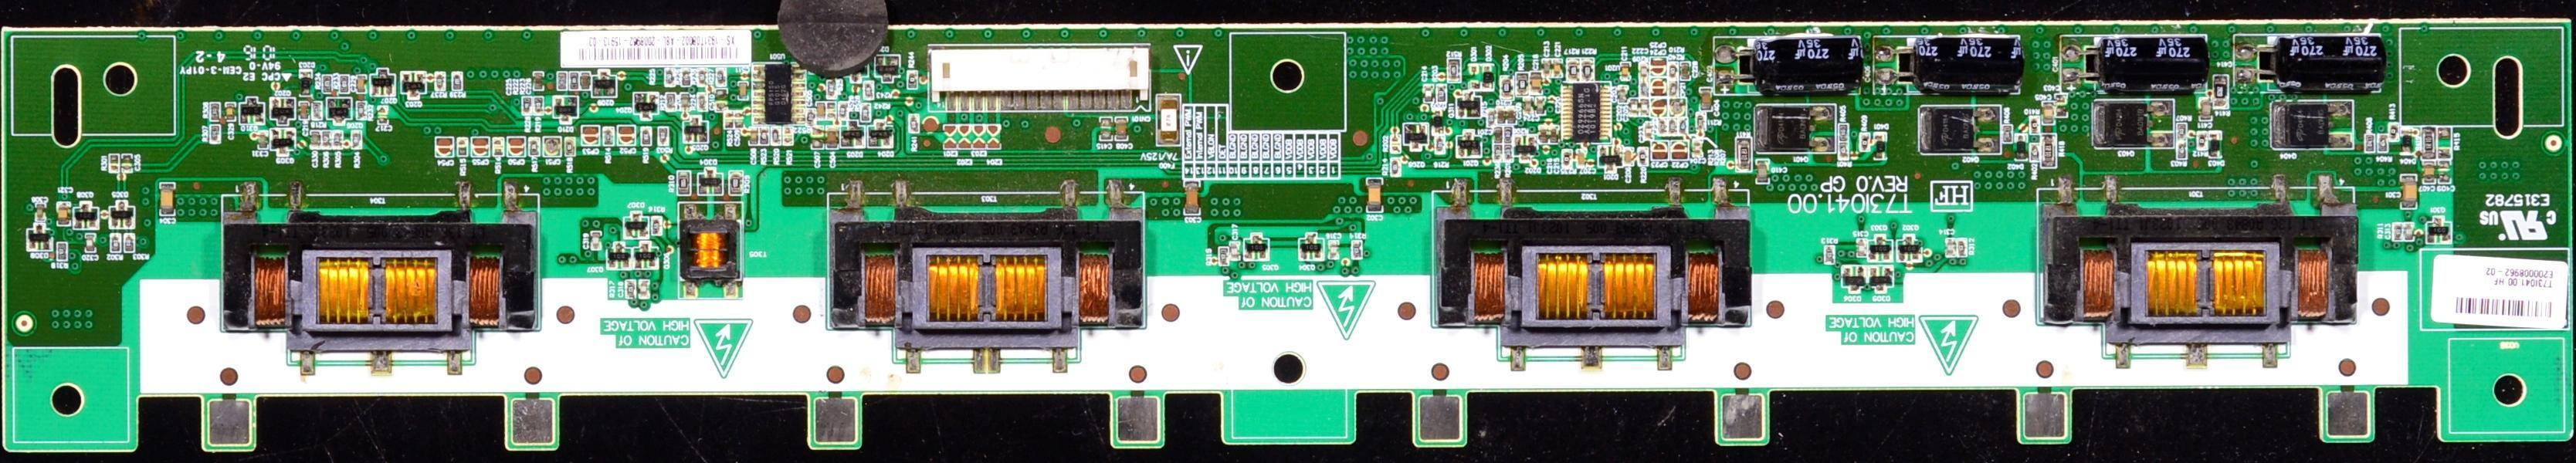Capacitor: (1183, 181, 1204, 222), (158, 178, 177, 220), (1366, 177, 1386, 214), (2399, 172, 2418, 208), (544, 133, 563, 167), (583, 122, 602, 157), (436, 134, 456, 167), (472, 134, 492, 164), (507, 135, 528, 164), (619, 122, 636, 154), (377, 105, 394, 133), (1097, 115, 1114, 144), (588, 229, 604, 255), (1669, 139, 1690, 161), (2422, 160, 2435, 191), (2040, 103, 2057, 127), (1754, 161, 1771, 184), (1421, 81, 1434, 109), (1700, 84, 1713, 111), (2200, 90, 2213, 119), (1116, 115, 1129, 144), (2440, 158, 2452, 185), (1855, 235, 1869, 262), (56, 201, 71, 227), (530, 69, 546, 91), (1651, 140, 1668, 161), (1530, 69, 1542, 96), (2057, 91, 2068, 120), (1651, 97, 1668, 117), (825, 126, 838, 150), (1619, 61, 1635, 82), (310, 129, 321, 150), (84, 232, 97, 255), (1945, 236, 1957, 260), (1327, 239, 1341, 263), (1649, 56, 1666, 74), (225, 99, 236, 123), (1624, 145, 1634, 170), (1575, 147, 1587, 172), (1229, 240, 1241, 264), (1616, 83, 1629, 104), (1639, 120, 1653, 140), (813, 124, 822, 152), (1649, 76, 1666, 94), (1549, 121, 1561, 145), (734, 107, 744, 133), (34, 203, 47, 224), (815, 100, 826, 121), (1537, 123, 1549, 144), (747, 124, 758, 147), (257, 129, 268, 153), (1533, 97, 1545, 116), (580, 70, 591, 91), (1628, 97, 1639, 117), (1693, 138, 1704, 161), (2405, 222, 2415, 244), (640, 277, 650, 301), (1680, 59, 1691, 81), (1521, 98, 1532, 117), (1638, 61, 1649, 79), (300, 100, 310, 123), (1543, 56, 1551, 78), (1554, 57, 1563, 79), (358, 74, 366, 93), (1641, 97, 1649, 117), (1496, 105, 1505, 123), (1493, 127, 1501, 143), (1508, 103, 1515, 120)
Connector: (926, 39, 1151, 110)
IC: (751, 49, 808, 123), (1558, 83, 1613, 142)
Resistor: (1734, 130, 1754, 173), (2042, 133, 2058, 167), (676, 167, 694, 196), (1444, 56, 1463, 84), (1348, 234, 1366, 265), (1432, 122, 1448, 156), (2212, 76, 2230, 107), (2194, 128, 2209, 157), (658, 123, 673, 152), (1822, 241, 1838, 267), (2438, 127, 2453, 154), (727, 169, 743, 197), (641, 123, 654, 154), (1434, 81, 1447, 110), (1582, 55, 1595, 82), (1858, 130, 1872, 157), (1957, 237, 1971, 263), (1565, 57, 1579, 83), (1516, 70, 1527, 100), (2028, 112, 2042, 135), (109, 232, 123, 255), (1217, 245, 1230, 269), (530, 135, 541, 162), (823, 79, 837, 100), (207, 123, 222, 145), (1561, 147, 1575, 169), (715, 68, 728, 90), (434, 70, 447, 93), (1501, 73, 1513, 99), (663, 91, 677, 113), (207, 100, 220, 123), (2001, 123, 2014, 147), (1837, 140, 1850, 164), (651, 213, 664, 236), (625, 278, 638, 303), (552, 70, 567, 91), (907, 66, 918, 91), (565, 134, 577, 159), (451, 69, 464, 91), (321, 73, 334, 93), (1696, 115, 1709, 137), (1836, 120, 1850, 141), (2387, 120, 2400, 141), (107, 153, 120, 174), (123, 153, 136, 174), (534, 95, 545, 118), (908, 113, 920, 136), (2364, 132, 2375, 154), (1639, 147, 1649, 171), (125, 231, 136, 254), (604, 123, 614, 150), (56, 242, 69, 263), (663, 68, 674, 88), (521, 96, 532, 117), (351, 130, 364, 151), (680, 91, 690, 114), (784, 123, 794, 148), (458, 136, 468, 161), (495, 137, 505, 163), (2176, 140, 2187, 164), (1655, 119, 1667, 136), (338, 74, 351, 94), (1668, 79, 1679, 98), (761, 123, 770, 147), (323, 129, 332, 150), (2030, 141, 2040, 164), (2392, 221, 2403, 242), (1638, 80, 1651, 96), (569, 69, 578, 91), (697, 90, 707, 111), (2177, 118, 2187, 139), (1669, 59, 1679, 80), (866, 80, 875, 100), (860, 103, 871, 123), (1485, 109, 1496, 127), (697, 66, 707, 86), (772, 123, 781, 147), (334, 127, 343, 151), (838, 100, 848, 119), (1679, 119, 1689, 136), (724, 109, 733, 129), (1503, 127, 1513, 144), (2380, 134, 2389, 154), (1493, 144, 1501, 162), (1669, 118, 1678, 136), (1503, 144, 1512, 161)
Transistor: (399, 69, 429, 110), (369, 65, 398, 103), (1839, 265, 1869, 300), (684, 115, 712, 154), (107, 198, 137, 231), (271, 127, 300, 164), (554, 96, 581, 133), (1242, 229, 1271, 263), (240, 93, 267, 127), (25, 225, 54, 259), (326, 96, 354, 127), (1402, 122, 1430, 154), (1295, 231, 1323, 265), (873, 52, 902, 86), (592, 68, 618, 103), (1598, 145, 1622, 180), (1454, 90, 1483, 120), (269, 96, 298, 127), (622, 208, 649, 239), (869, 117, 893, 150), (1458, 127, 1483, 162), (631, 90, 659, 120), (73, 200, 101, 230), (2425, 213, 2452, 245), (1898, 235, 1924, 265), (606, 240, 632, 272), (841, 118, 866, 151), (697, 165, 724, 195), (1872, 265, 1894, 299), (1516, 136, 1538, 168), (637, 238, 659, 270), (1870, 236, 1893, 261), (297, 68, 314, 96)
